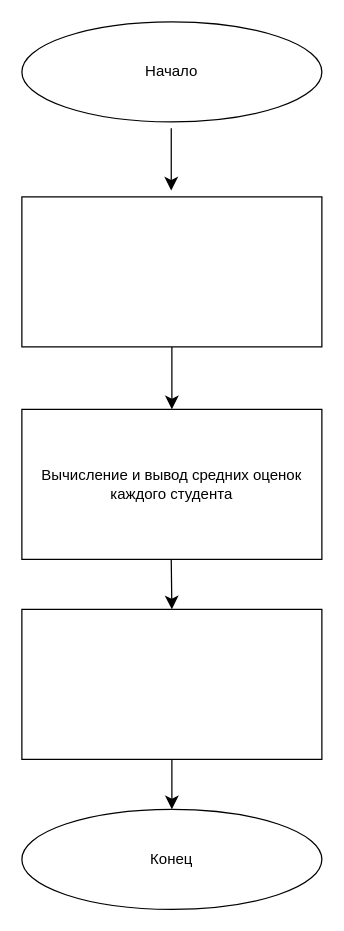
The diagram is 344 pixels wide and 931 high, and some of its shapes have lost their labels. The shapes that lost their labels are listed below. From the top down, each one's box as (x1, y1, x2, y2) in pixels, then its label:
(21, 196, 322, 347): Задание списка словарей
(21, 608, 322, 759): Нахождение и вывод имени студента с максимальной оценкой
